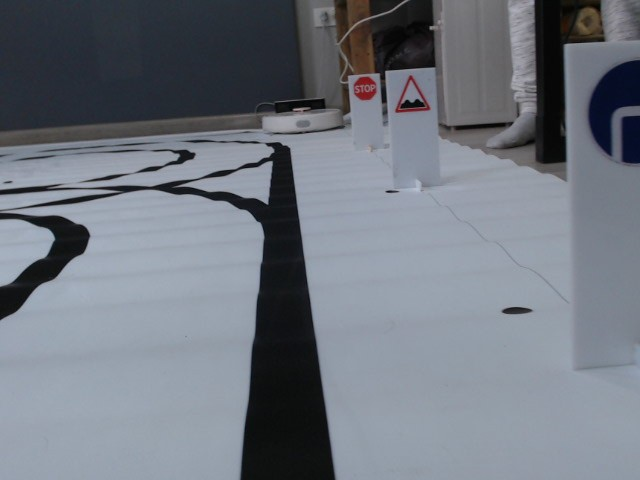Nerov: (392, 74, 433, 112)
Right: (588, 57, 640, 169)
